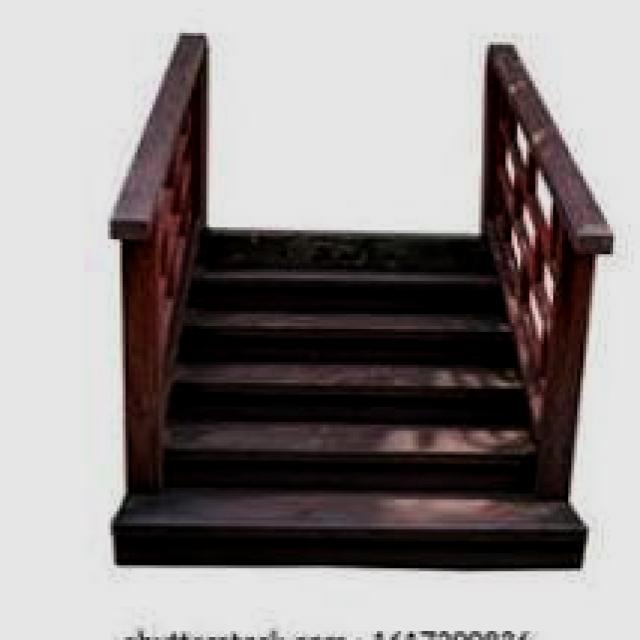upstair: (169, 247, 534, 495)
